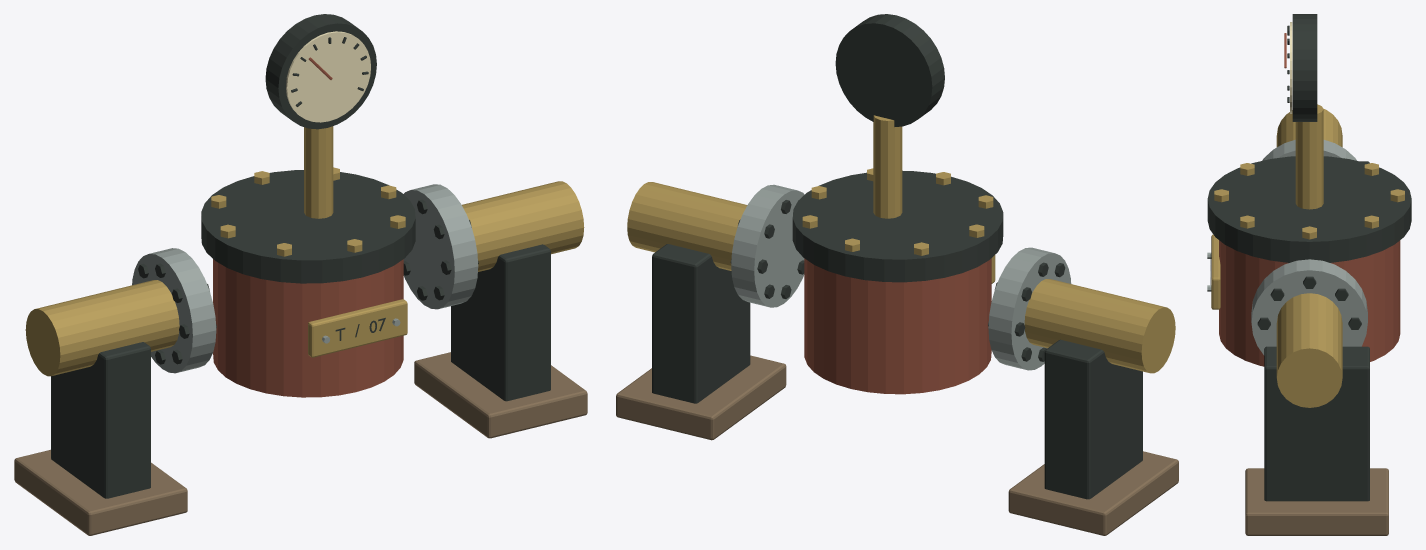
File: steamtrap.glb
3 renders of one model, left to right at view 1: azimuth 30°, elevation 25°; view 2: azimuth 150°, elevation 25°; view 3: azimuth 270°, elevation 25°, orthographic. The views are drawn at different scales.
Parts seen in each view (by area): view 1: Annex_steamtrap; view 2: Annex_steamtrap; view 3: Annex_steamtrap.
Boxes of the visible parts, x1,y1,x2,y2 form: Annex_steamtrap: (14, 14, 587, 535); Annex_steamtrap: (616, 14, 1178, 535); Annex_steamtrap: (1207, 14, 1411, 535).
Size of the model in its own units: 1.52 by 1.19 by 0.541.
